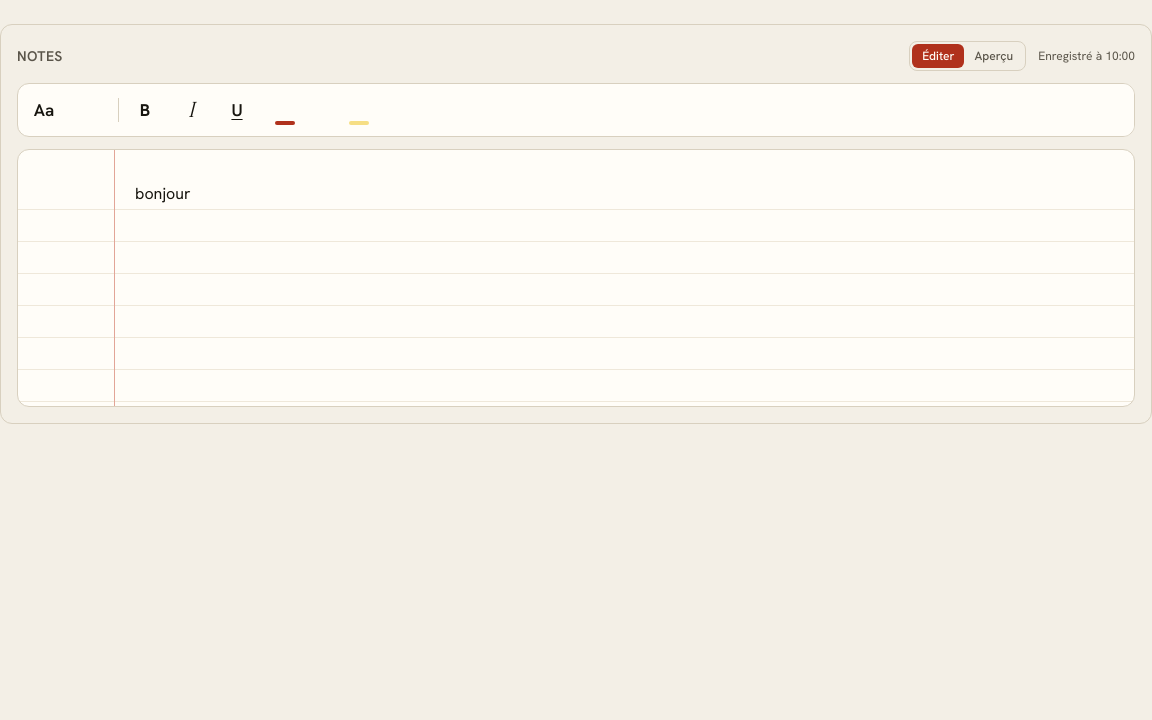
it: phone toolbar and sheet (YC-47) › the veil and « Fermer » close it too
The width and height of the screenshot is (1152, 720).
Expected: the field named "Note de la vidéo" reads "bonjour", x1=135 y1=183 x2=190 y2=204
Click the button with aria-label "Toute la mise en forme" at coordinates (44, 110), box x1=22 y1=88 x2=66 y2=132
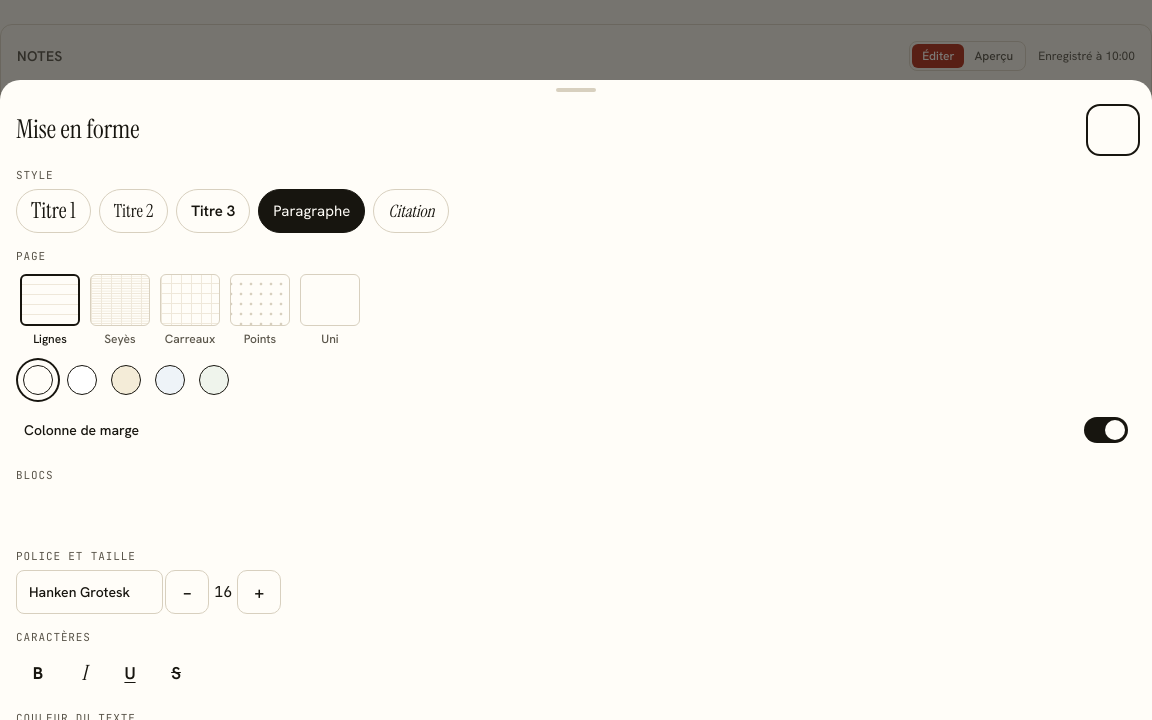
Click the element with class "yc-sheet-veil" at coordinates (576, 43), box x1=0 y1=0 x2=1151 y2=719
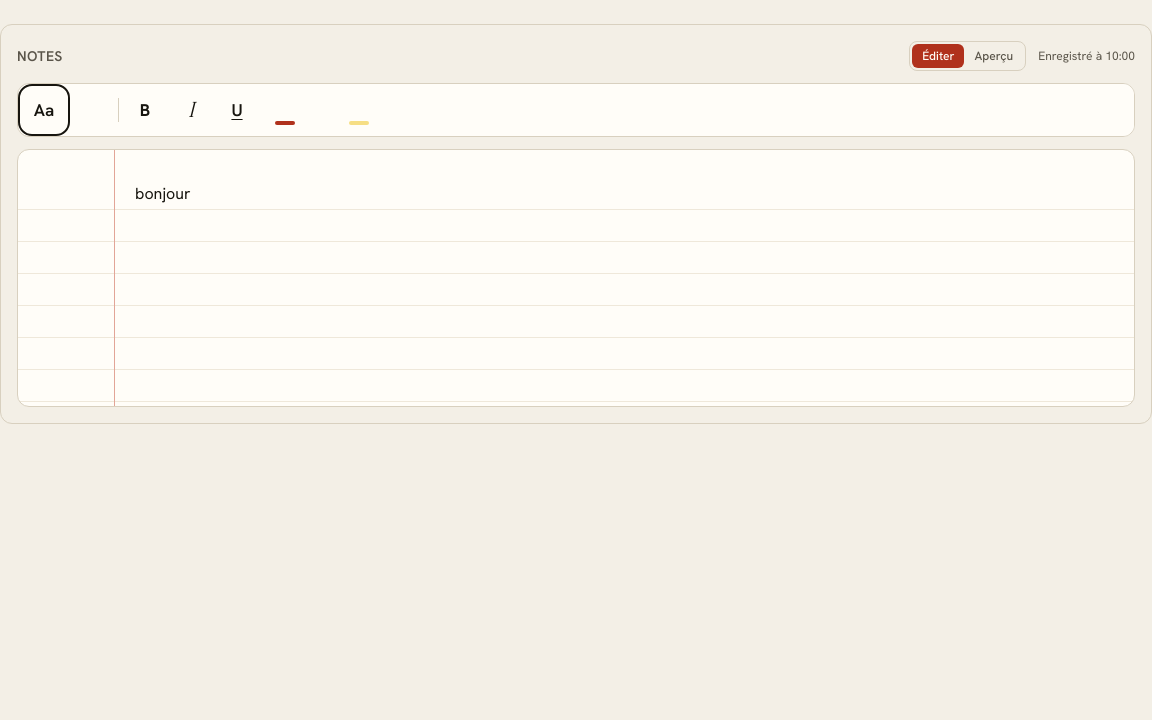
Expected: the dialog is gone
Click the button with aria-label "Toute la mise en forme" at coordinates (44, 110), box x1=22 y1=88 x2=66 y2=132
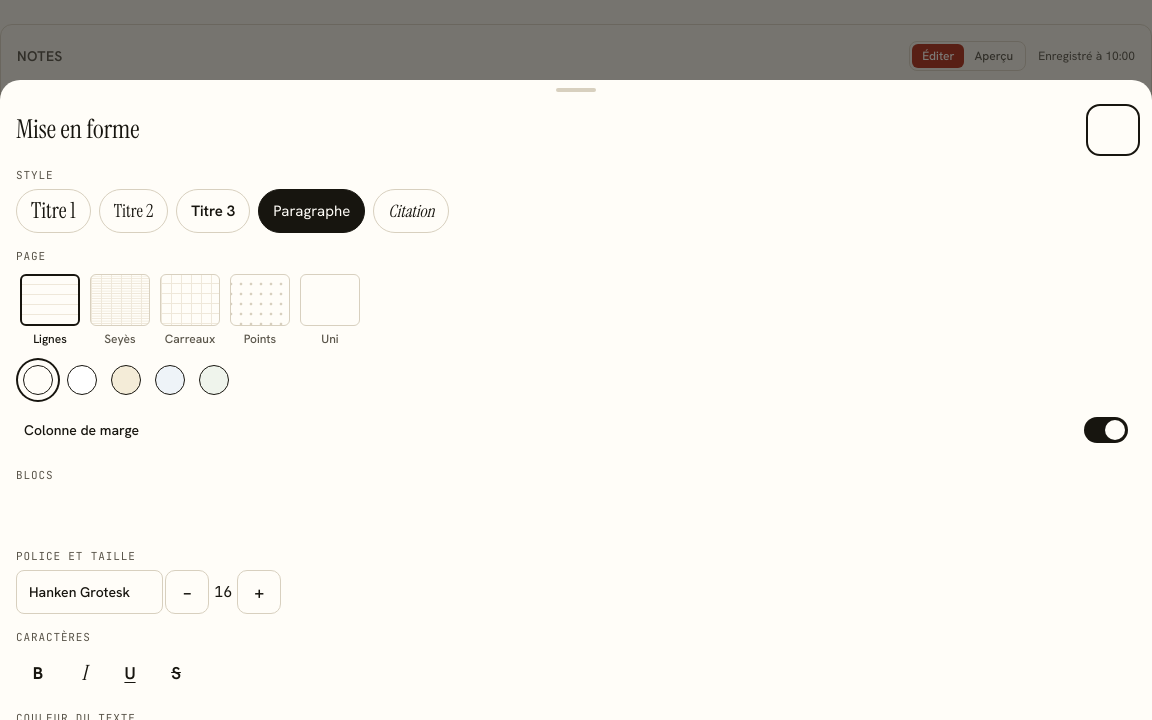
Click the button named "Fermer" at coordinates (1113, 130), box x1=1090 y1=108 x2=1136 y2=152
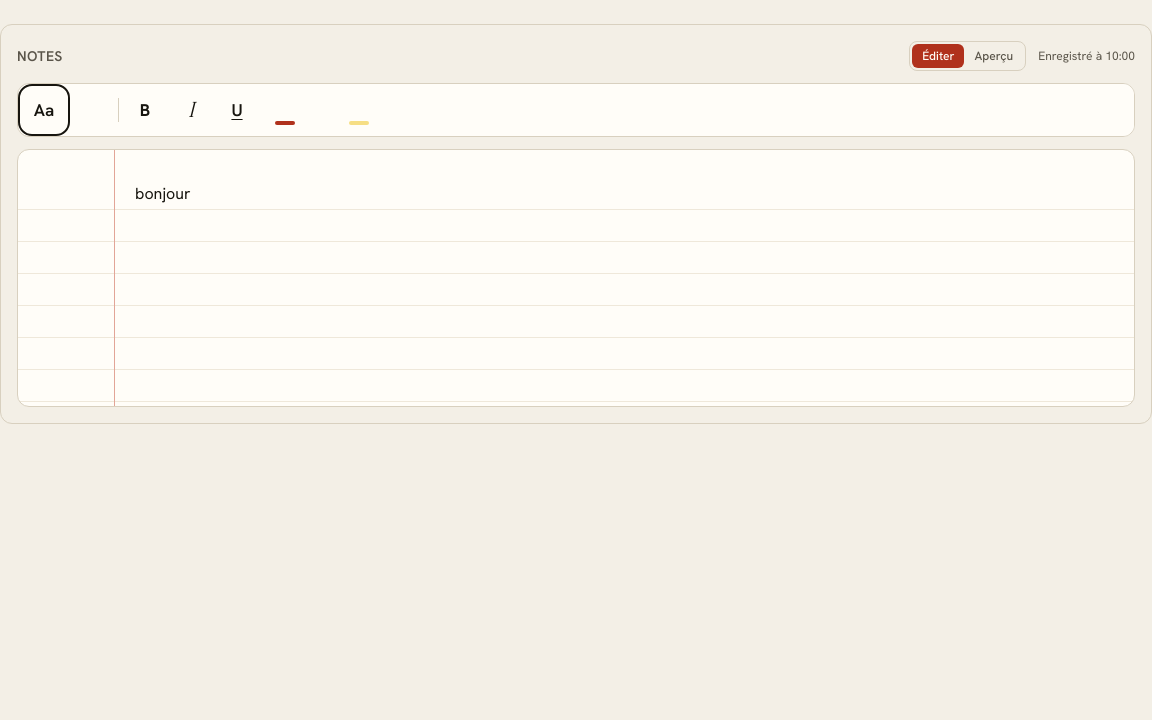
Expected: the dialog is gone
